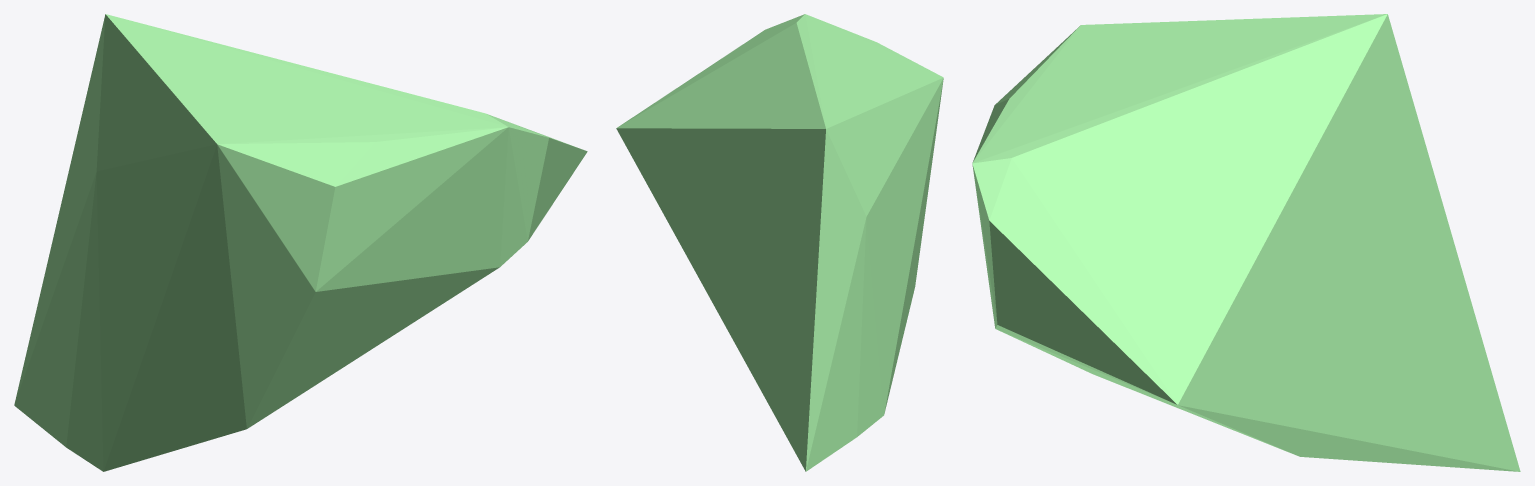
File: xarm7_with_gripper_robot_base_coll_13.dae
3 renders of one model, left to right at view 1: azimuth 30°, elevation 25°; view 2: azimuth 150°, elevation 25°; view 3: azimuth 270°, elevation 25°, orthographic. The views are drawn at different scales.
Parts seen in each view (by area): view 1: Node_000001B89B5E6480; view 2: Node_000001B89B5E6480; view 3: Node_000001B89B5E6480.
Boxes of the visible parts, bbox=[...] form: Node_000001B89B5E6480: bbox=[14, 14, 587, 471]; Node_000001B89B5E6480: bbox=[616, 14, 943, 471]; Node_000001B89B5E6480: bbox=[972, 14, 1520, 471].
Size of the model in its own units: 0.1622 by 0.1544 by 0.1615.
